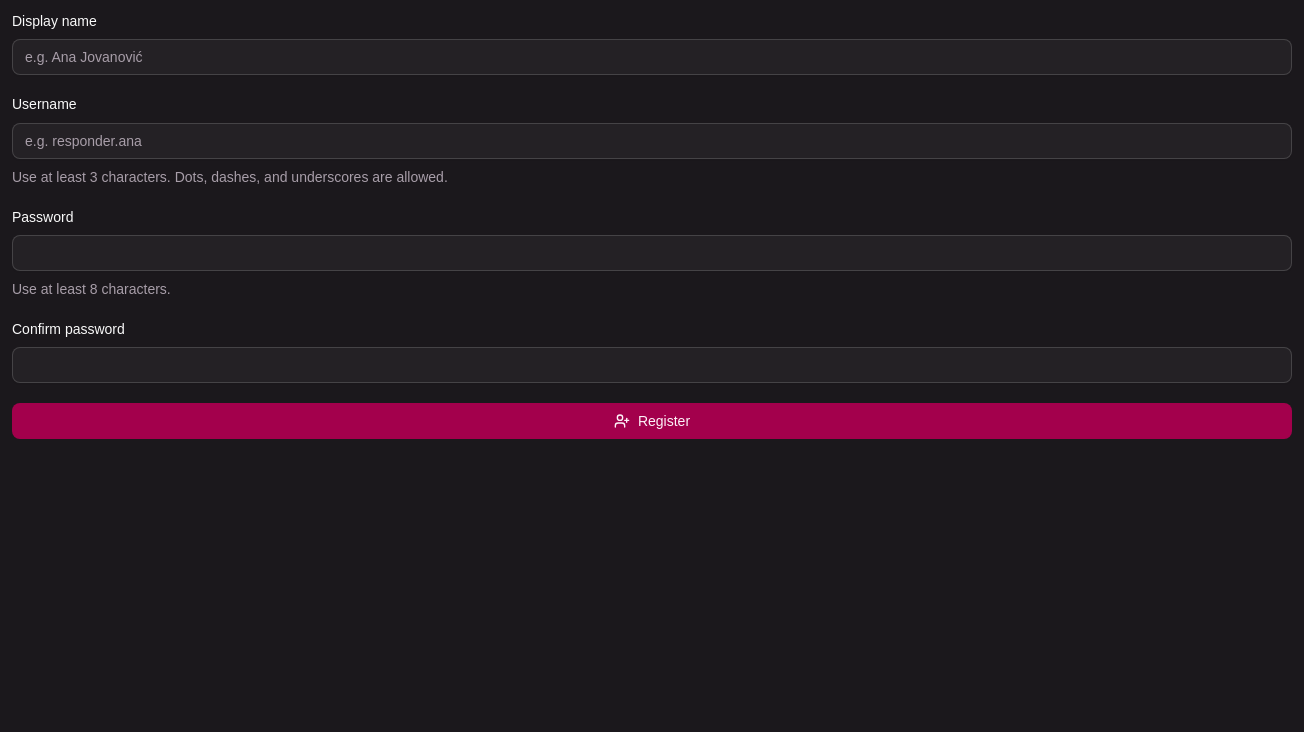
Scenario: RegisterForm › uses a neutral message for unexpected registration failures
Step 1. Type " New Engineer " into the field labelled "Display name" → (652,57), box [12, 39, 1292, 75]
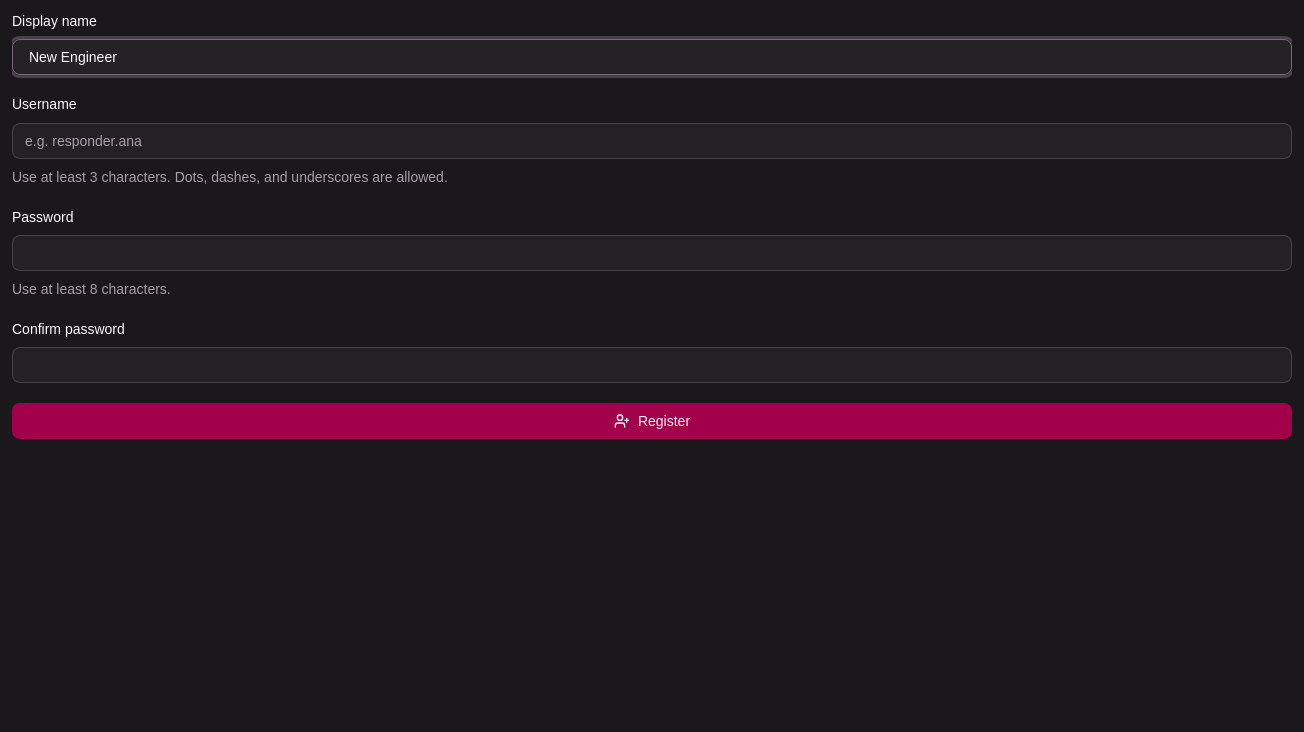
Step 2. Type " New.Responder " into the field labelled "Username" → (652,140), box [12, 122, 1292, 158]
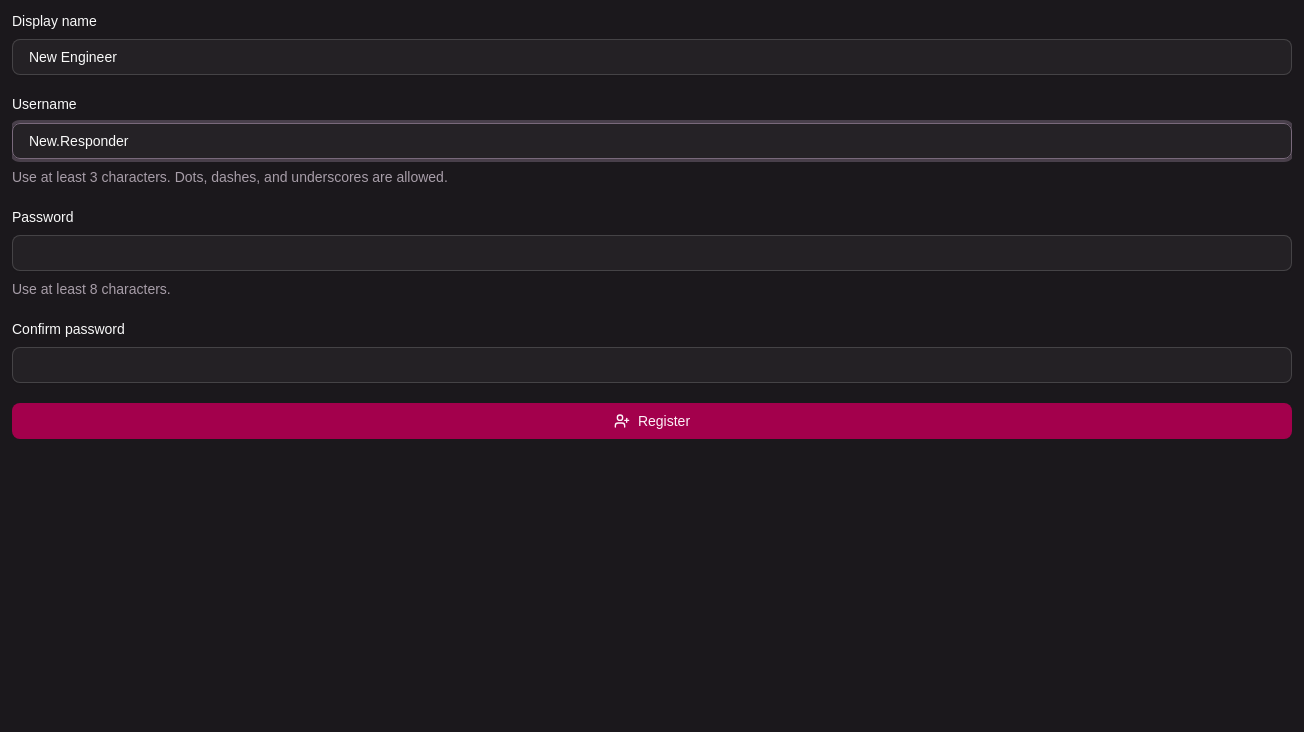
Step 3. Type "strong-password" into the password field labelled "Password" → (652,253), box [12, 235, 1292, 271]
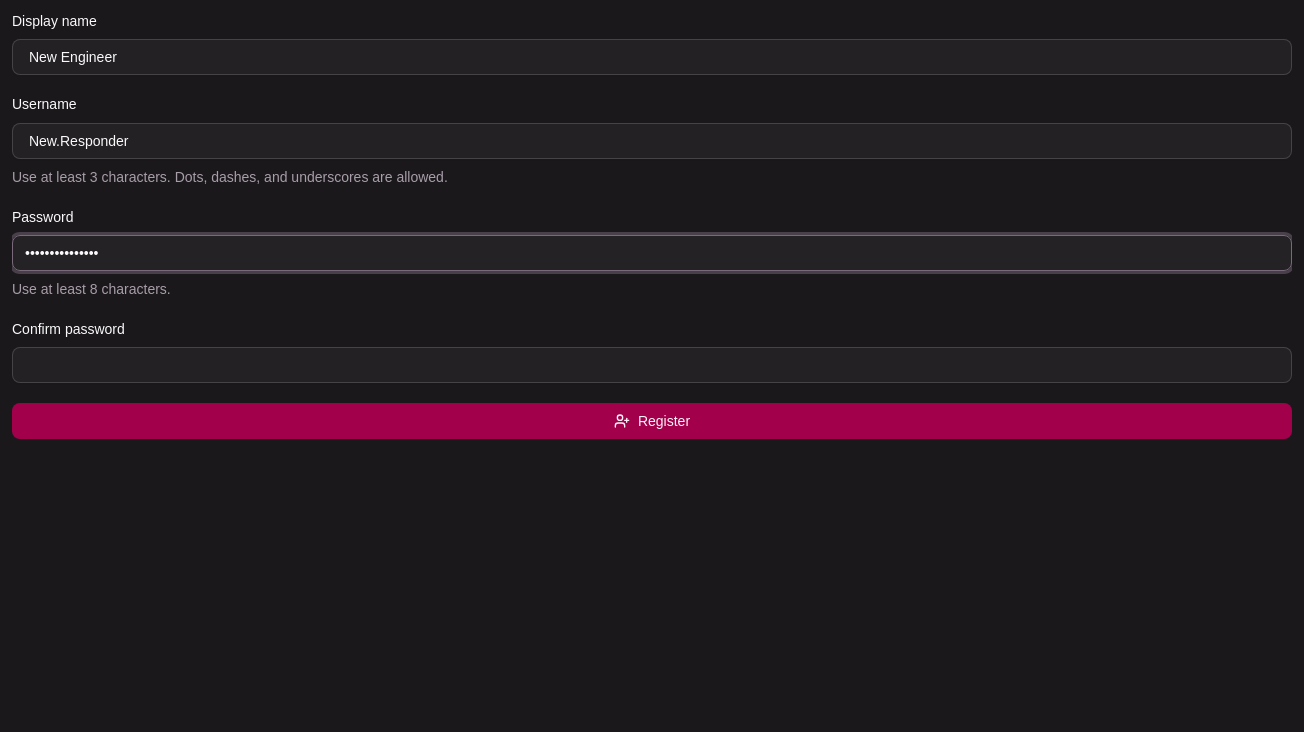
Step 4. Type "strong-password" into the password field labelled "Confirm password" → (652,365), box [12, 347, 1292, 383]
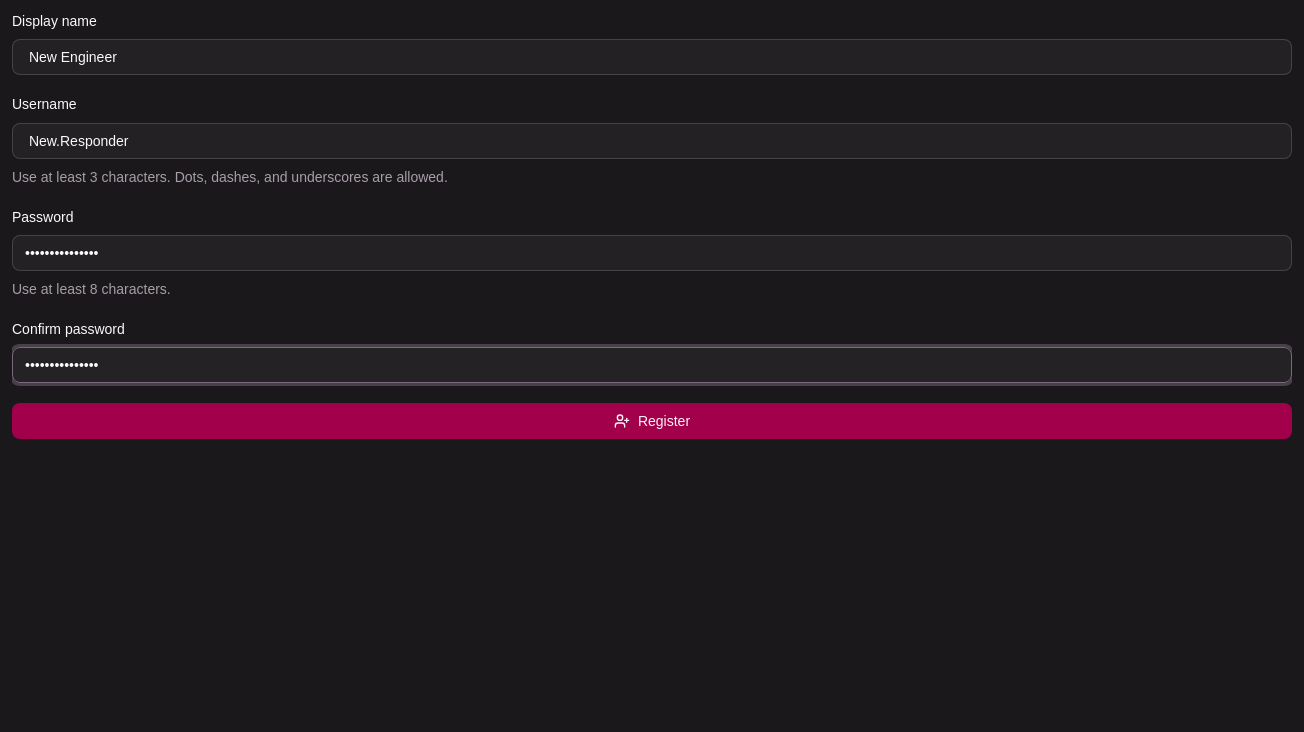
Step 5. Click the button "Register" → (652,421), box [12, 403, 1292, 439]
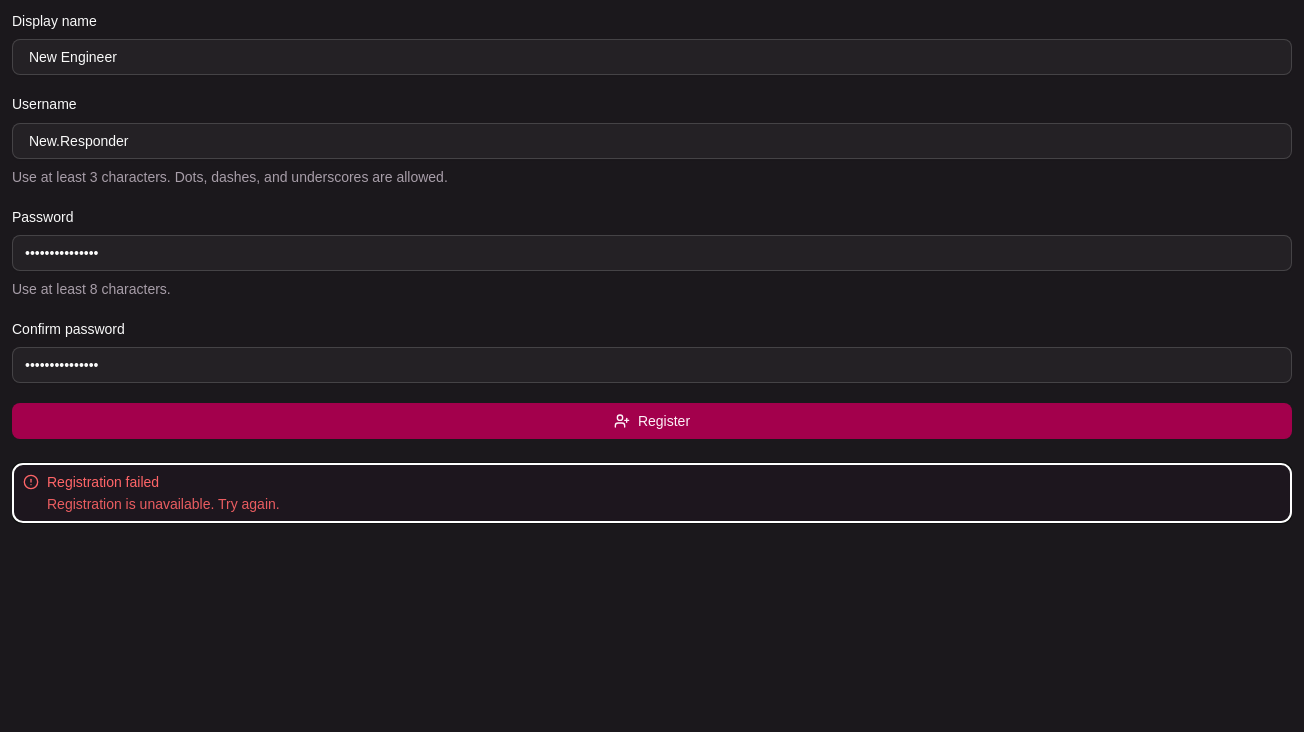
Expected: the text "Registration is unavailable. Try again." is shown, [47, 496, 280, 512]
